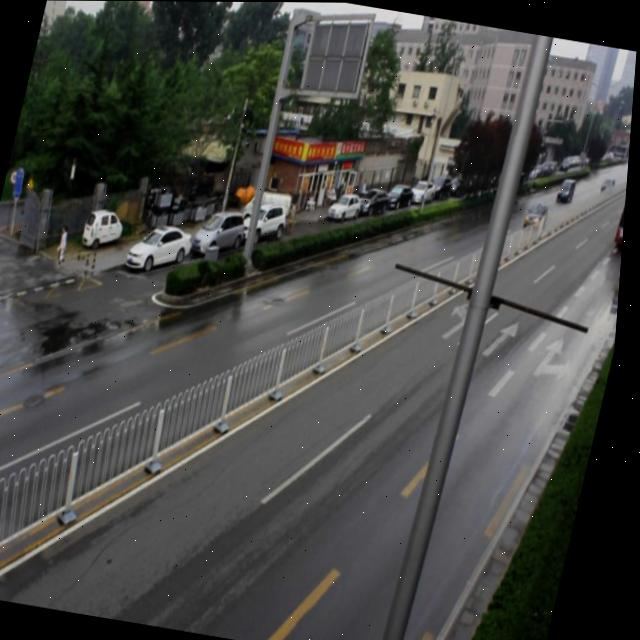van: (615, 186, 629, 249)
